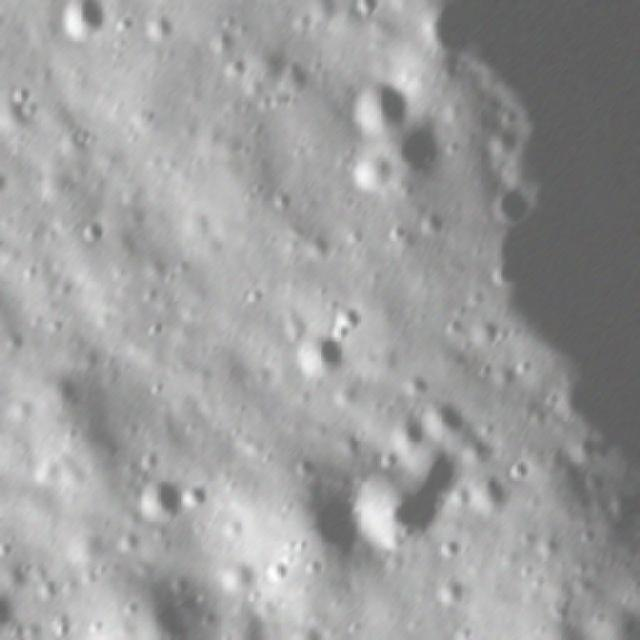crater: (277, 446, 408, 571), (381, 120, 444, 182), (132, 472, 192, 534), (281, 327, 348, 382), (346, 78, 406, 136), (56, 0, 109, 49), (145, 14, 177, 46)
